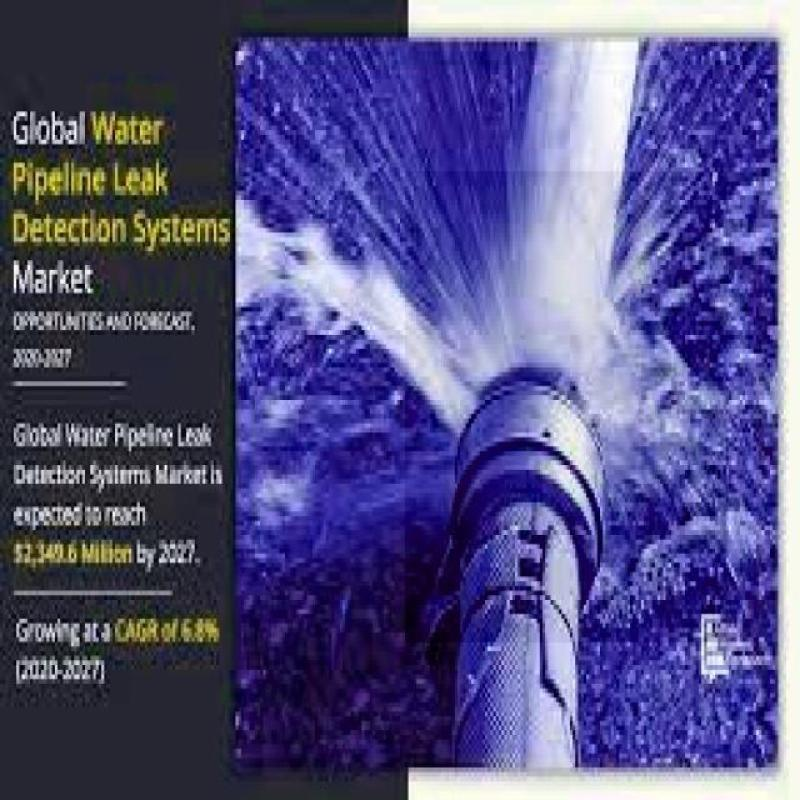Fracture: (379, 223, 640, 546)
